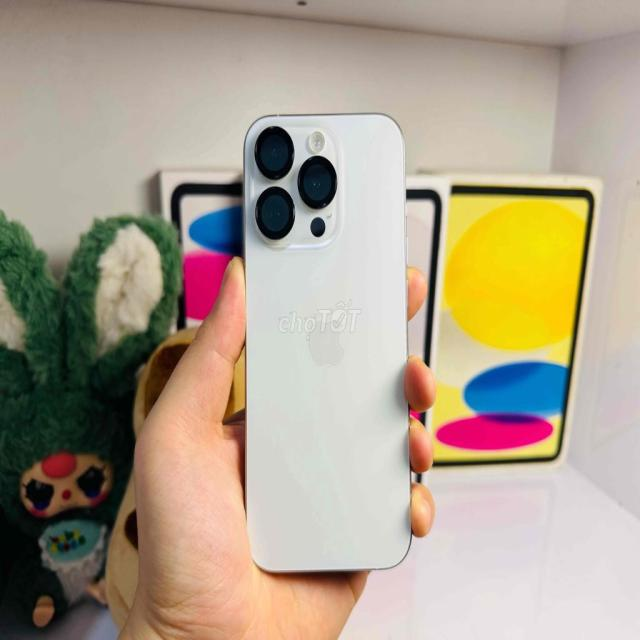gen_15: (233, 110, 420, 582)
